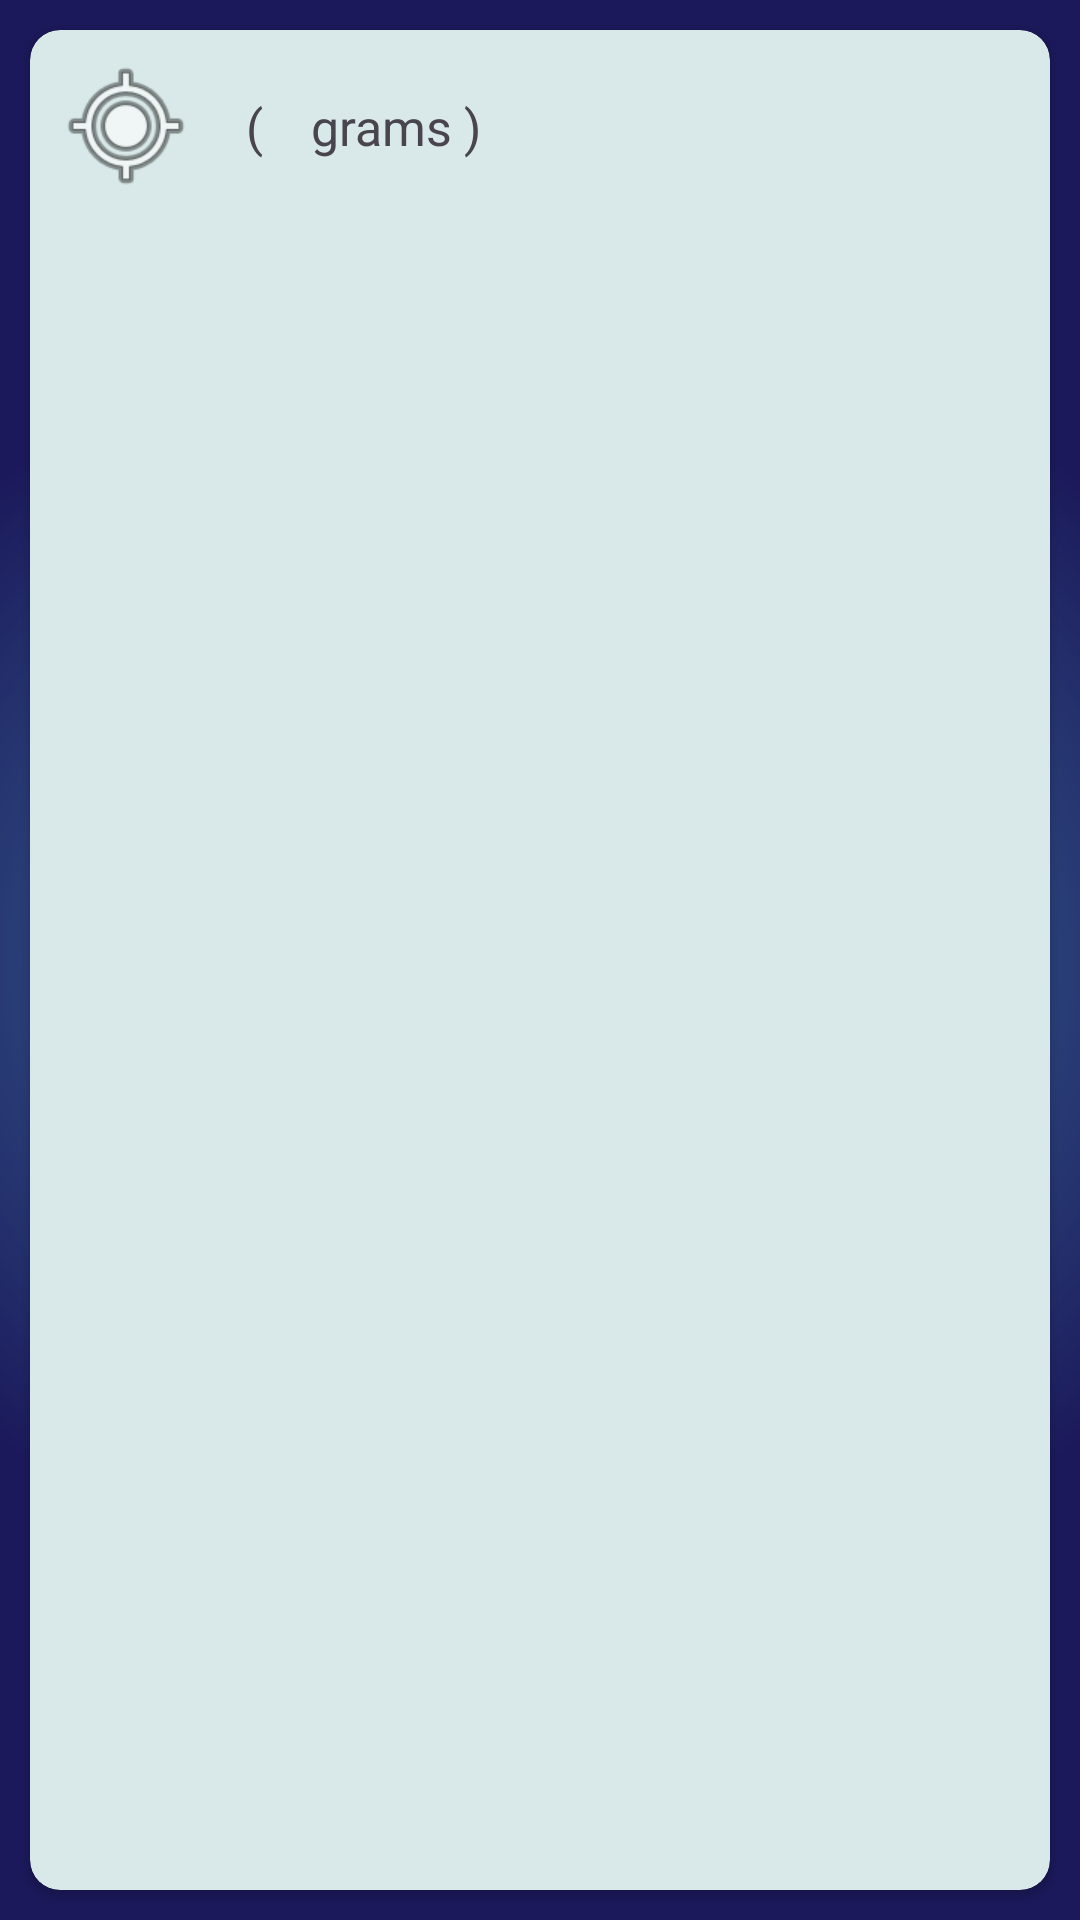

Named icons in this screenshot (1080px x 1920px) and their centers, (x=x, y=y):
mylocation: (x=126, y=126)
